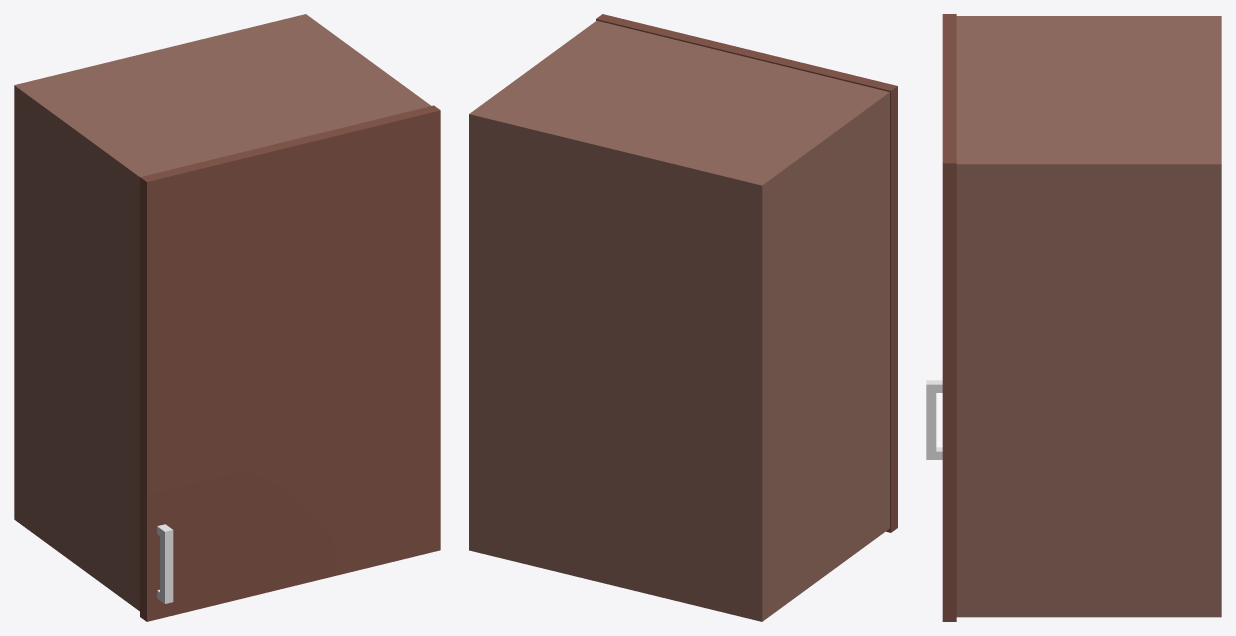
Rendered from kitchen_item_061.glb.
3 renders of one model, left to right at view 1: azimuth 30°, elevation 25°; view 2: azimuth 150°, elevation 25°; view 3: azimuth 270°, elevation 25°, orthographic. The views are drawn at different scales.
Visible parts, largest first — view 1: kitchen_item_061; view 2: kitchen_item_061; view 3: kitchen_item_061.
Part boxes in pixels (x1,y1,x2,y2): kitchen_item_061: (14, 14, 440, 621); kitchen_item_061: (469, 14, 897, 621); kitchen_item_061: (926, 14, 1221, 621).
Size of the model in its own units: 0.6194 by 0.8859 by 0.5174.
Materials: 1 (1 with a texture image).
